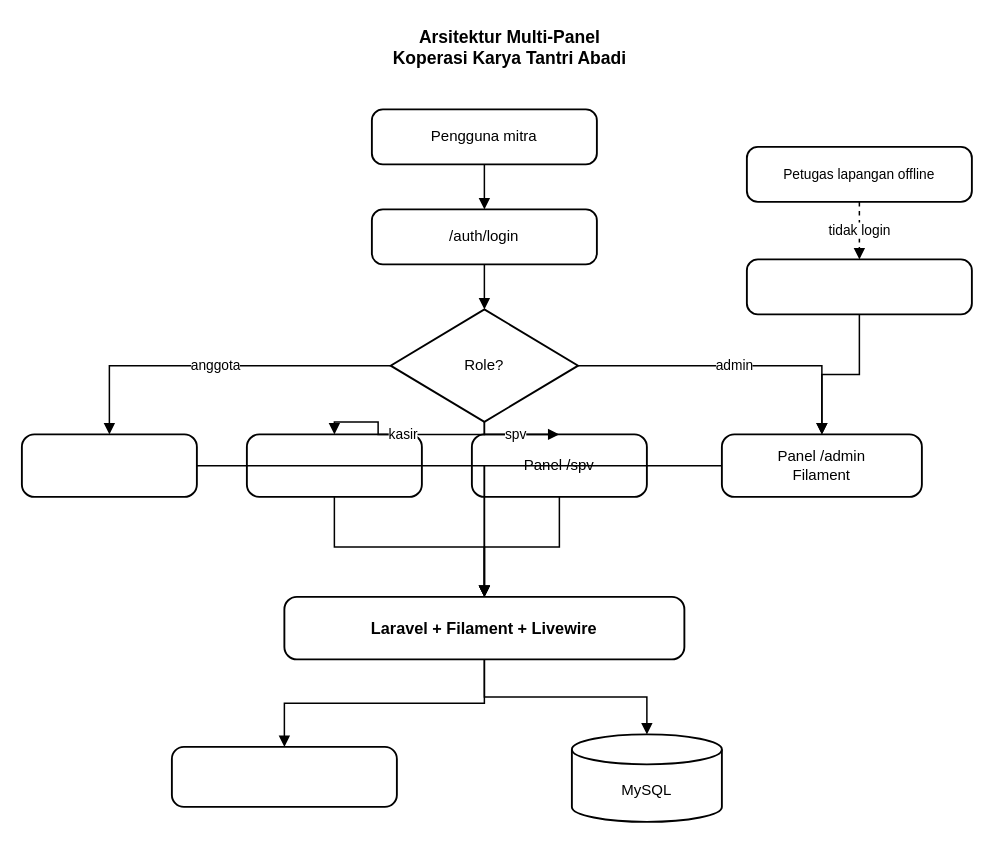
This 995x844 diagram has some shape labels left out. The shapes that lost their labels are listed below. From the top down, each one's centre as x and y in pixels, then its label:
(x=858, y=286): Serah data ke Admin
(x=108, y=465): Panel /anggota
(x=333, y=465): Panel /kasir
(x=283, y=776): Storage / PDF laporan
